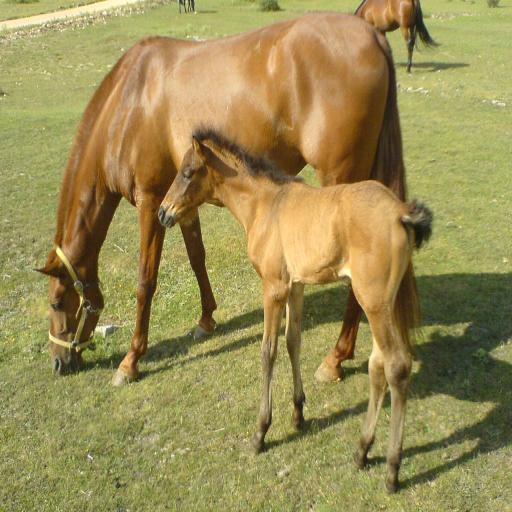horse: (32, 12, 423, 391), (156, 126, 434, 494), (354, 0, 440, 74)
